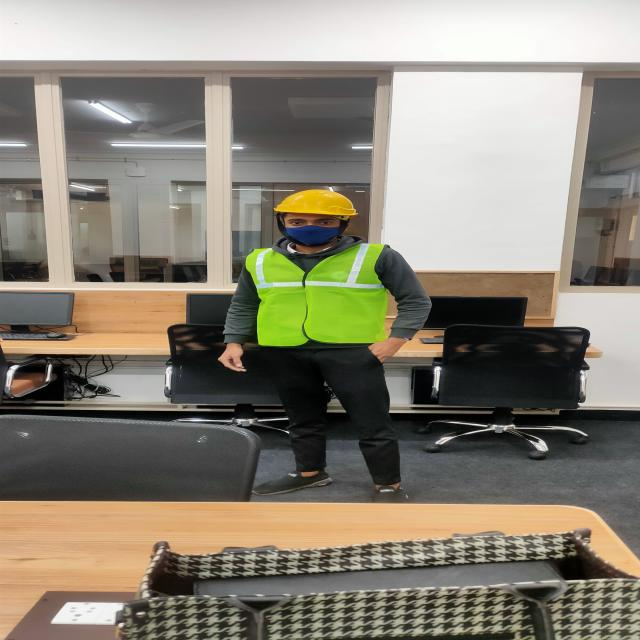safe: (248, 186, 428, 494)
